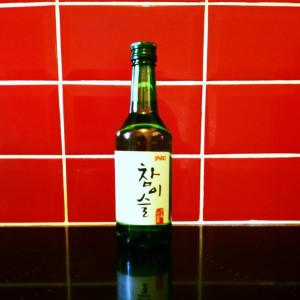soju: (109, 39, 176, 242)
